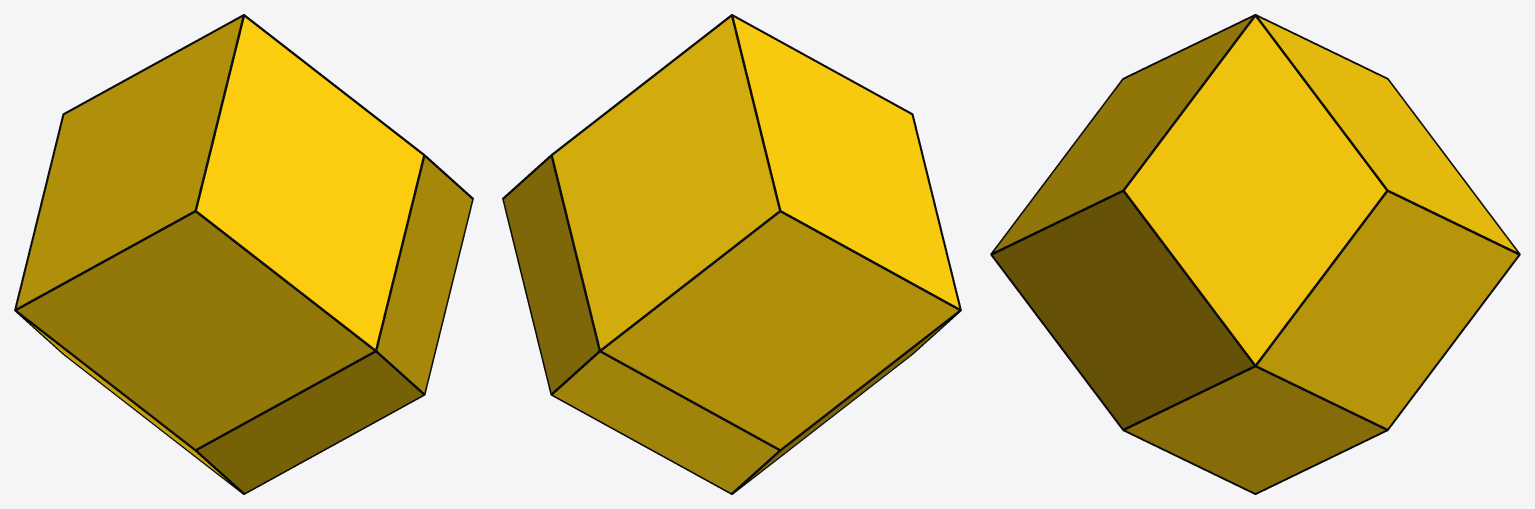
Rendered from quiz_117.dae.
The picture shows the model from 3 angles, left to right: view 1: azimuth 30°, elevation 25°; view 2: azimuth 150°, elevation 25°; view 3: azimuth 270°, elevation 25°; orthographic projection.
Visible parts, largest first — view 1: visgeom_0, geometry_edges0_0_quiz_117.off; view 2: visgeom_0, geometry_edges0_0_quiz_117.off; view 3: visgeom_0, geometry_edges0_0_quiz_117.off.
Part boxes in pixels (x1,y1,x2,y2): visgeom_0: [17, 17, 471, 492]; geometry_edges0_0_quiz_117.off: [14, 14, 473, 494]; visgeom_0: [504, 17, 958, 492]; geometry_edges0_0_quiz_117.off: [502, 14, 961, 494]; visgeom_0: [993, 17, 1517, 492]; geometry_edges0_0_quiz_117.off: [990, 14, 1520, 494].
Size of the model in its own units: 2.13 by 2.13 by 2.13.
